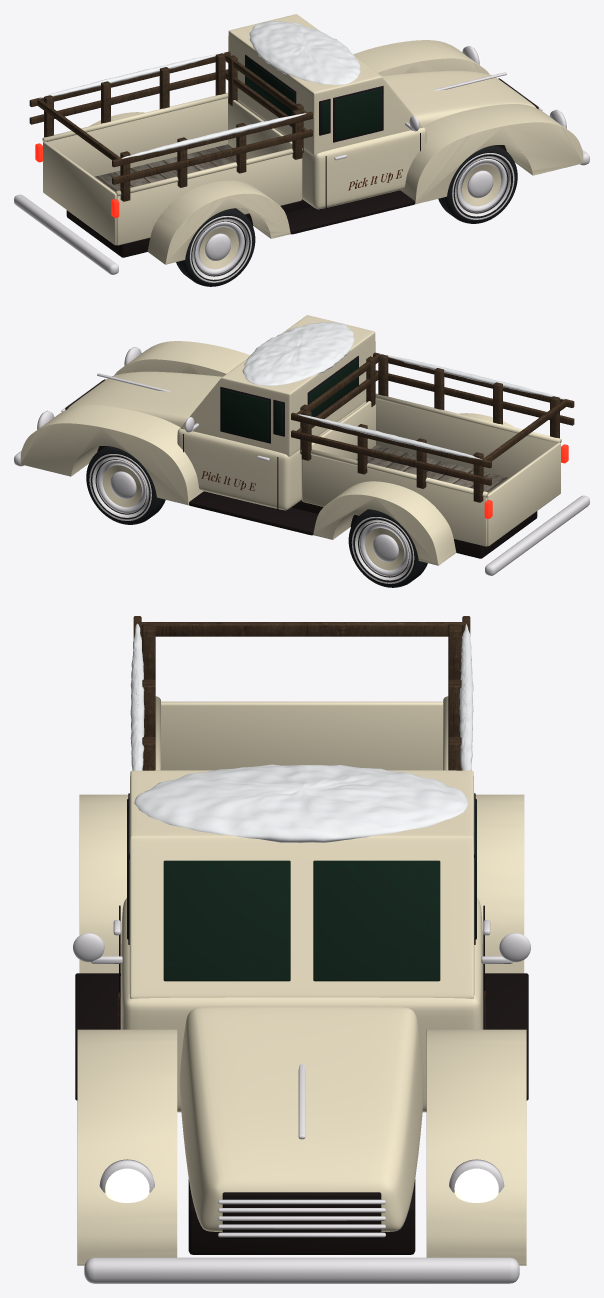
File: truck.glb
The picture shows the model from 3 angles, top to bottom: view 1: azimuth 30°, elevation 25°; view 2: azimuth 150°, elevation 25°; view 3: azimuth 270°, elevation 25°; orthographic projection. The views are drawn at different scales.
Visible parts, largest first — view 1: BedFront, Cylinder, BumperF, Rail1.22-1, Mirror1, DoorGlass1, BedFloor; view 2: BedFront, Cylinder, BumperF, Rail1.22-1, Mirror1, DoorGlass1, BedFloor; view 3: BedFront, Cylinder, BumperF, DoorGlass1, Mirror1, Rail1.22-1, HeadLens1.
Part boxes in pixels (x1=…): BedFront: x1=43, y1=14, x2=536, y2=270; Cylinder: x1=42, y1=40, x2=583, y2=264; BumperF: x1=14, y1=46, x2=589, y2=286; Rail1.22-1: x1=29, y1=51, x2=312, y2=201; Mirror1: x1=39, y1=21, x2=419, y2=158; DoorGlass1: x1=245, y1=57, x2=381, y2=140; BedFloor: x1=94, y1=144, x2=247, y2=192; BedFront: x1=67, y1=315, x2=560, y2=571; Cylinder: x1=20, y1=341, x2=561, y2=565; BumperF: x1=14, y1=347, x2=589, y2=587; Rail1.22-1: x1=291, y1=352, x2=574, y2=502; Mirror1: x1=184, y1=322, x2=564, y2=459; DoorGlass1: x1=222, y1=358, x2=358, y2=441; BedFloor: x1=356, y1=445, x2=509, y2=493; BedFront: x1=120, y1=701, x2=483, y2=1232; Cylinder: x1=77, y1=696, x2=526, y2=1265; BumperF: x1=75, y1=793, x2=528, y2=1283; DoorGlass1: x1=127, y1=799, x2=476, y2=981; Mirror1: x1=73, y1=623, x2=530, y2=962; Rail1.22-1: x1=133, y1=616, x2=470, y2=770; HeadLens1: x1=105, y1=1168, x2=498, y2=1202.
Size of the model in its own units: 4.84 by 1.7 by 2.02.
Materials: 10 (10 with a texture image).
